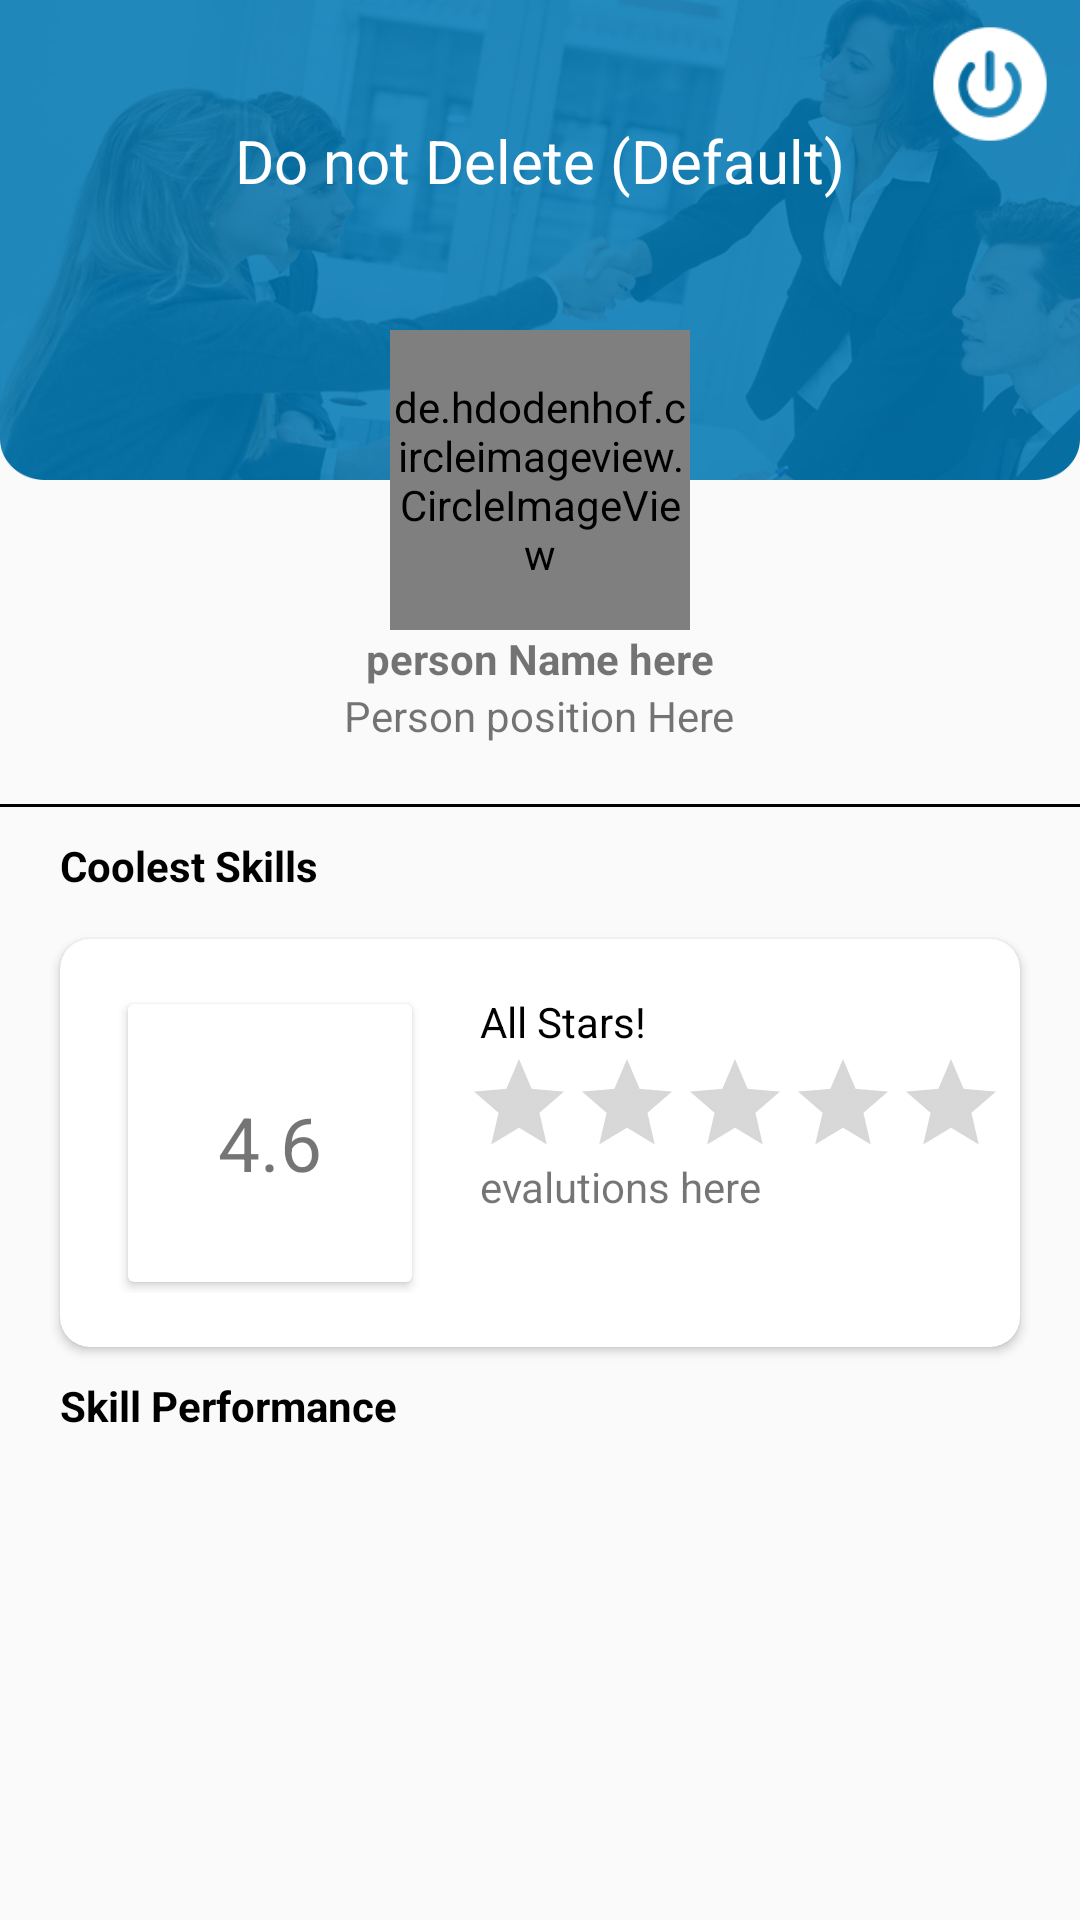

Icons on this 1080x1920 Android screen, each with its box as (x1, y1, x2, y2):
signout: (930, 24, 1047, 144)
